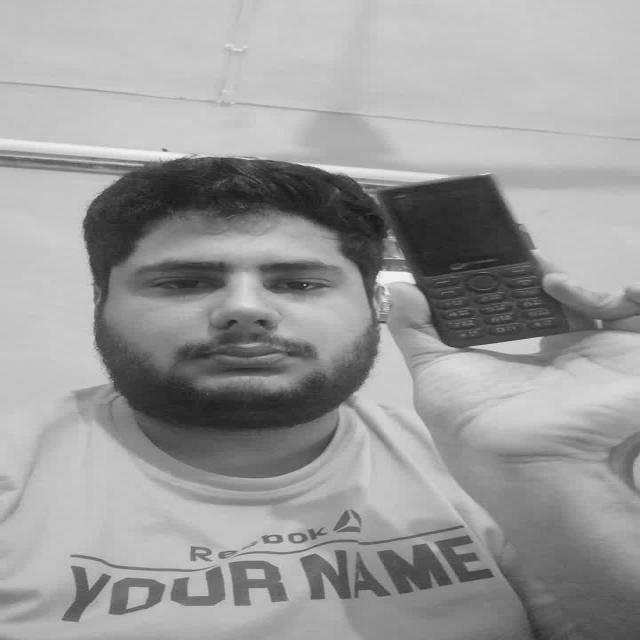fake: (378, 168, 572, 350)
real: (105, 209, 375, 399), (132, 252, 347, 300)
